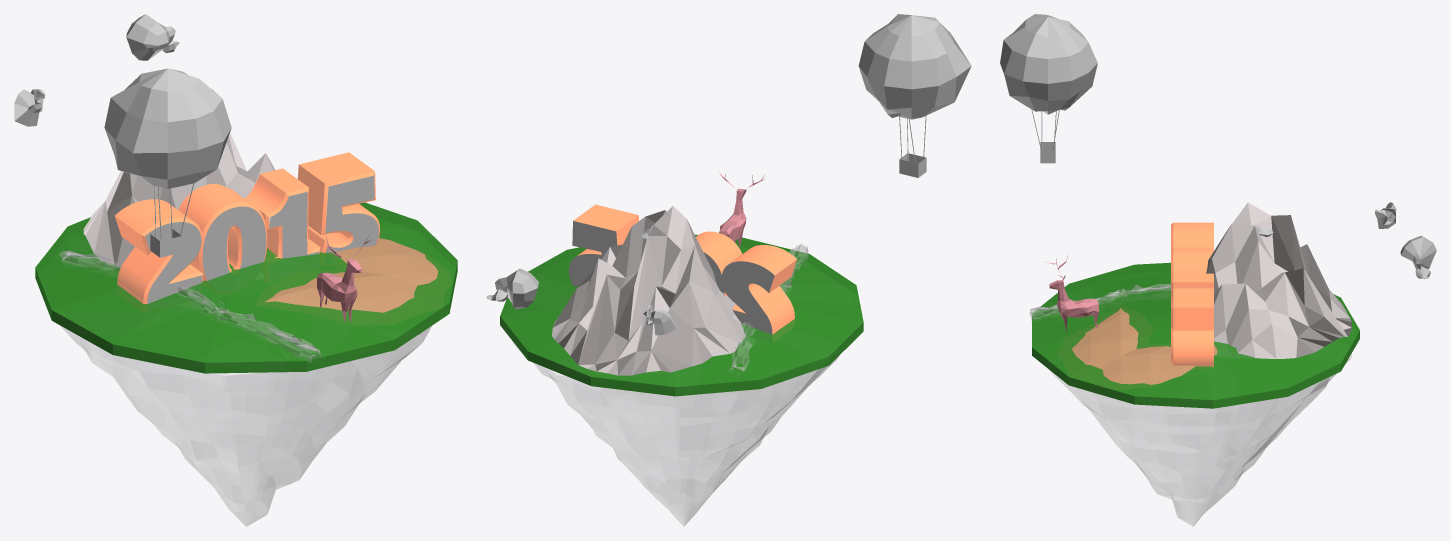
Rendered from island.dae.
3 renders of one model, left to right at view 1: azimuth 30°, elevation 25°; view 2: azimuth 150°, elevation 25°; view 3: azimuth 270°, elevation 25°, orthographic. The views are drawn at different scales.
Parts seen in each view (by area): view 1: Island_Grass, Island_Bottom, baloon, Extrude_NURBS, Cap_1, Sand, Mountain, Rounding, Waterfall_-_Top, Reindeer, Cloud.1, Cloud.3 (+1 smaller); view 2: Mountain, Island_Grass, Island_Bottom, baloon, Extrude_NURBS, Cap_2, Cloud.1, Waterfall_-_Top, Reindeer, Cloud.3, Cube; view 3: Island_Grass, Island_Bottom, Mountain, baloon, Extrude_NURBS, Sand, Reindeer, Waterfall_-_Top, Cloud.1.
Boxes of the visible parts, x1,y1,x2,y2 form: Island_Grass: [35, 202, 457, 373]; Island_Bottom: [60, 325, 431, 526]; baloon: [104, 68, 231, 188]; Extrude_NURBS: [115, 152, 374, 303]; Cap_1: [145, 175, 378, 303]; Sand: [264, 236, 438, 312]; Mountain: [83, 133, 275, 267]; Rounding: [141, 171, 379, 303]; Waterfall_-_Top: [59, 250, 324, 362]; Reindeer: [317, 235, 370, 322]; Cloud.1: [126, 14, 175, 60]; Cloud.3: [14, 89, 45, 126]; Mountain: [552, 206, 745, 375]; Island_Grass: [500, 234, 863, 396]; Island_Bottom: [512, 341, 839, 526]; baloon: [858, 14, 971, 119]; Extrude_NURBS: [573, 204, 796, 334]; Cap_2: [568, 221, 774, 334]; Cloud.1: [495, 268, 538, 309]; Waterfall_-_Top: [730, 244, 808, 371]; Reindeer: [719, 172, 765, 248]; Cloud.3: [643, 305, 675, 335]; Cube: [899, 153, 926, 177]; Island_Grass: [1032, 262, 1359, 408]; Island_Bottom: [1049, 354, 1351, 526]; Mountain: [1206, 202, 1351, 358]; baloon: [1000, 14, 1097, 114]; Extrude_NURBS: [1173, 222, 1213, 366]; Sand: [1071, 308, 1217, 384]; Reindeer: [1044, 256, 1099, 332]; Waterfall_-_Top: [1029, 284, 1170, 319]; Cloud.1: [1400, 236, 1436, 269].
Bounding box in the file's own units: 14.65 × 19.49 × 17.36.
